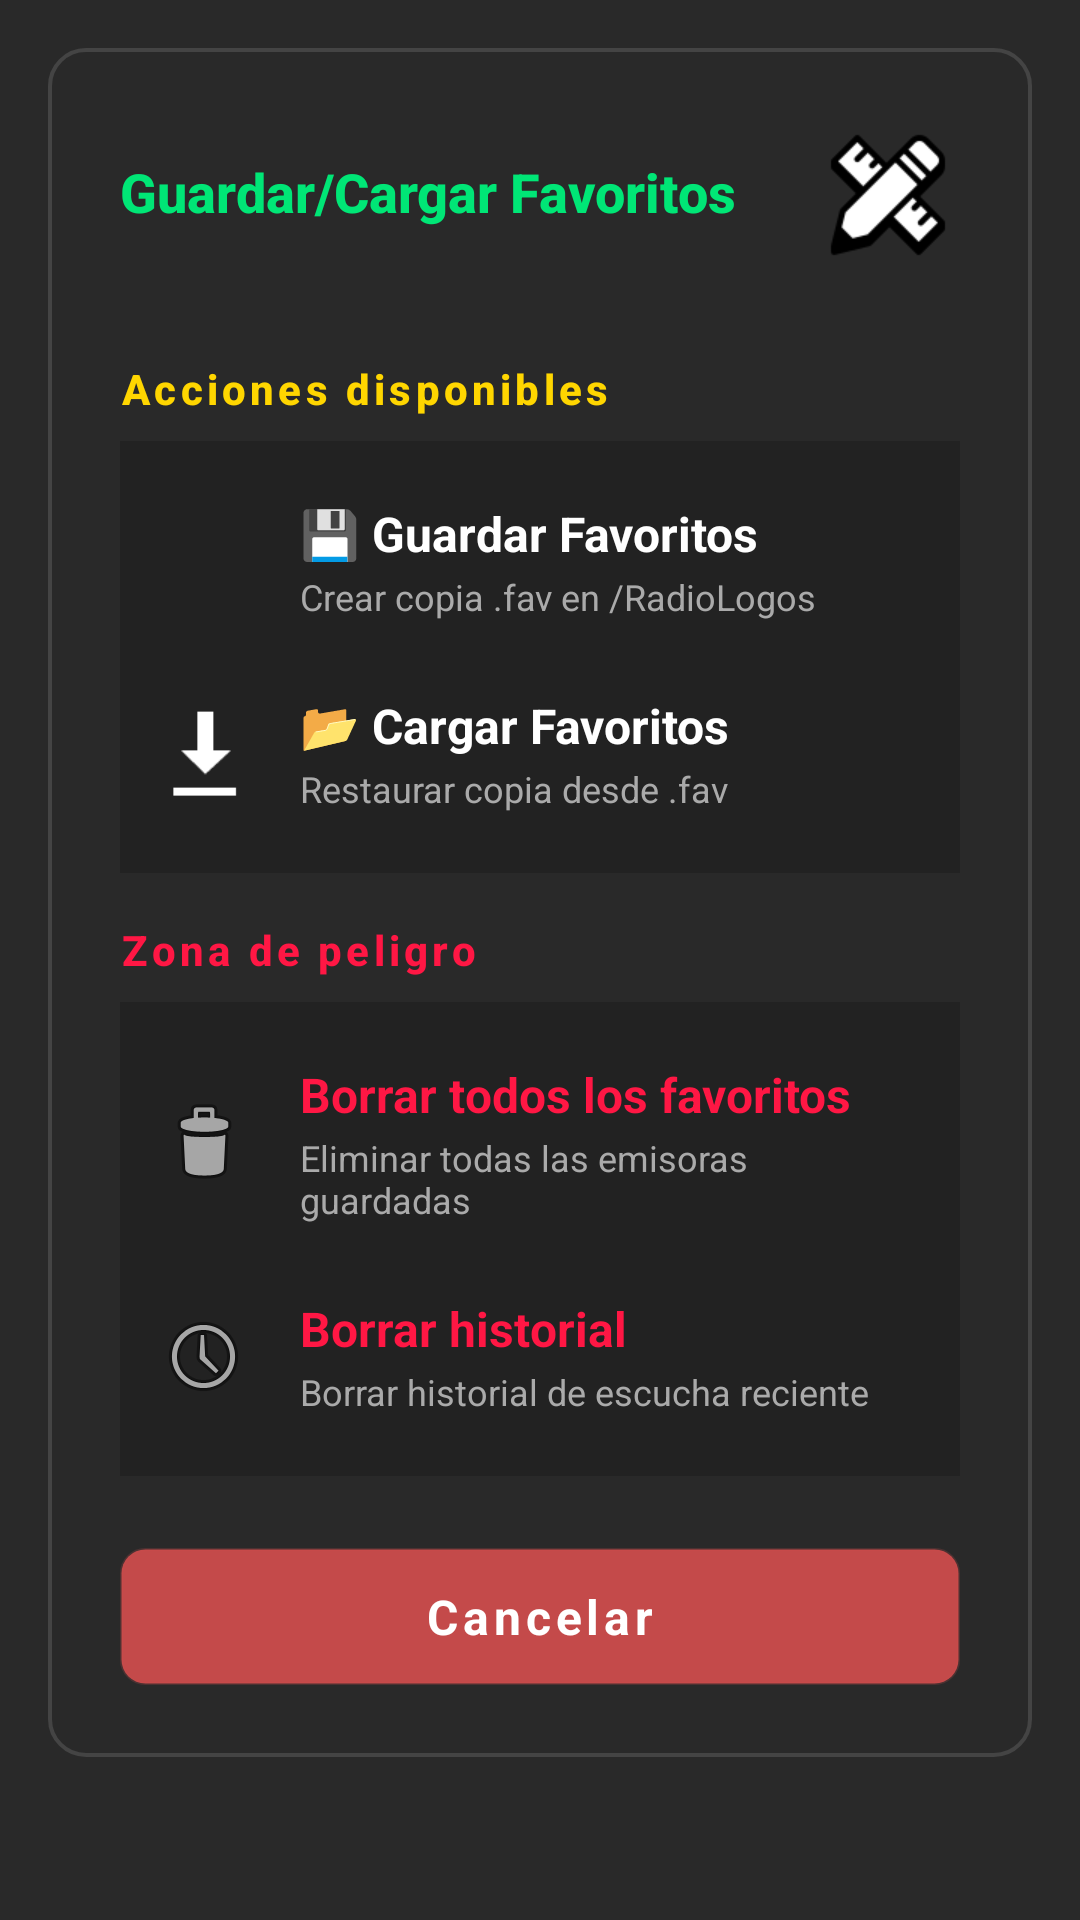

Locate icon controls on the screen. Image size 1080x1920, boxes as (x1, y1, x2, y2).
Abrir editor web de archivos .fav: (831, 135, 945, 255)
delete: (181, 1107, 228, 1176)
download: (173, 711, 237, 796)
recent history: (172, 1325, 235, 1388)
